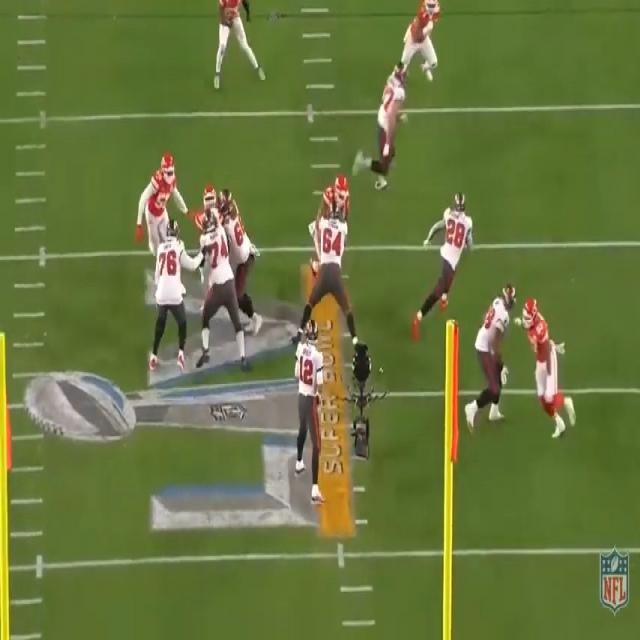players: (404, 177, 472, 349), (518, 284, 582, 462), (284, 322, 338, 508), (461, 273, 515, 442), (351, 62, 414, 201), (307, 198, 360, 354), (140, 208, 184, 372), (196, 209, 237, 381), (144, 151, 186, 290), (220, 181, 258, 326), (400, 0, 448, 112)
